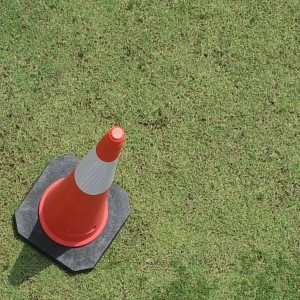traffic cone: (14, 126, 131, 272)
